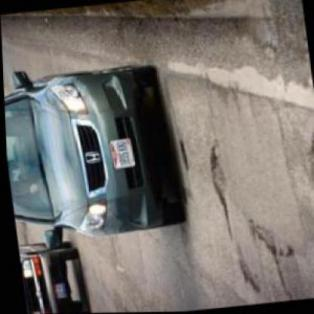Hueco: (300, 125, 314, 262), (203, 143, 230, 203)
